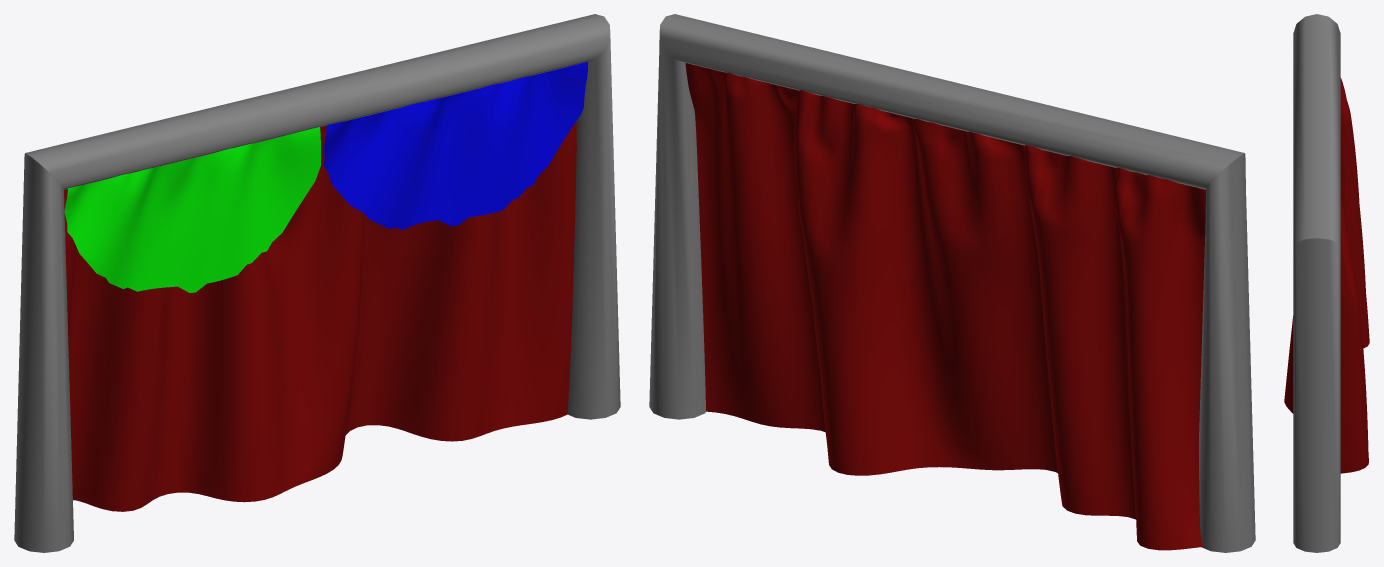
File: Curtains2.fbx
3 renders of one model, left to right at view 1: azimuth 30°, elevation 25°; view 2: azimuth 150°, elevation 25°; view 3: azimuth 270°, elevation 25°, orthographic. The views are drawn at different scales.
Parts seen in each view (by area): view 1: Plane001, Line001, Object002, Object001; view 2: Plane001, Line001; view 3: Line001, Plane001.
Boxes of the visible parts, bbox=[...] form: Plane001: bbox=[64, 121, 576, 511]; Line001: bbox=[14, 14, 620, 552]; Object002: bbox=[323, 62, 587, 230]; Object001: bbox=[64, 127, 320, 292]; Plane001: bbox=[685, 63, 1205, 550]; Line001: bbox=[649, 14, 1255, 552]; Line001: bbox=[1293, 14, 1340, 552]; Plane001: bbox=[1284, 78, 1369, 473].
Size of the model in its own units: 67.91 by 41.99 by 10.5.
